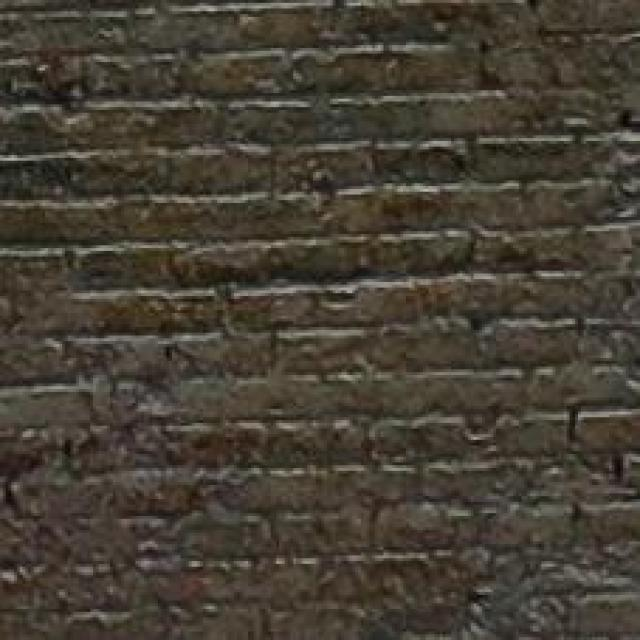Crack: (0, 101, 640, 496)
